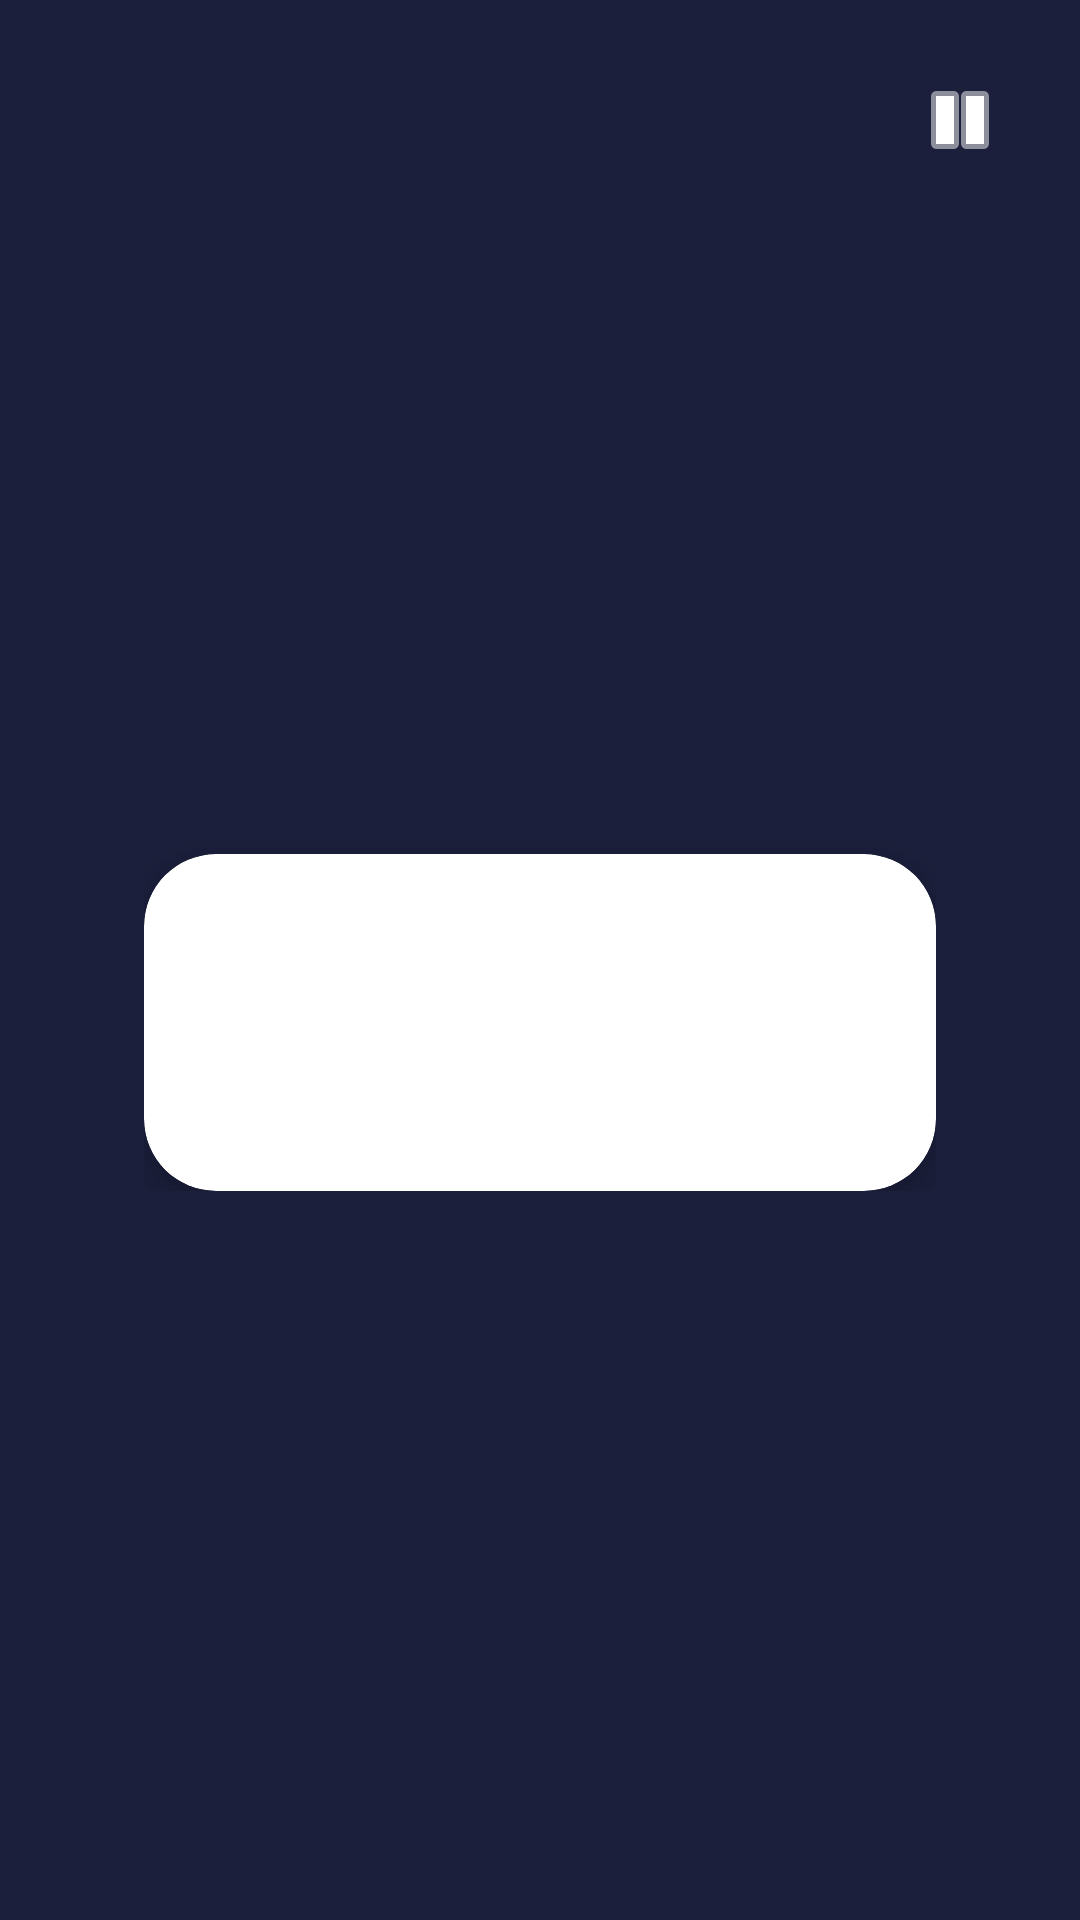

Screen size 1080px x 1920px. Icon name, then its box in pixels as (x1, y1, x2, y2):
Paused: (931, 91, 989, 149)
